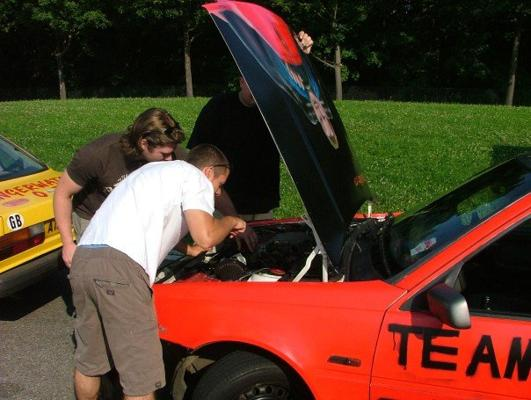person: (63, 142, 250, 397)
